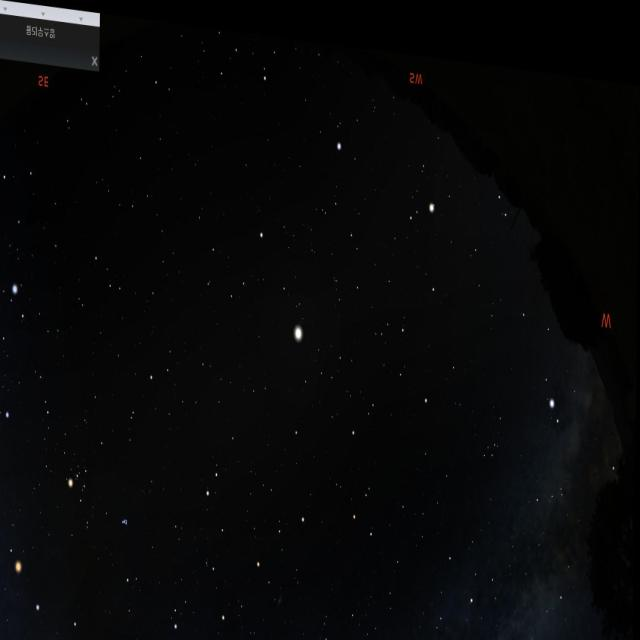cygnus: (448, 557, 558, 640)
pleiades: (118, 504, 137, 530)
taurus: (64, 428, 138, 558)
